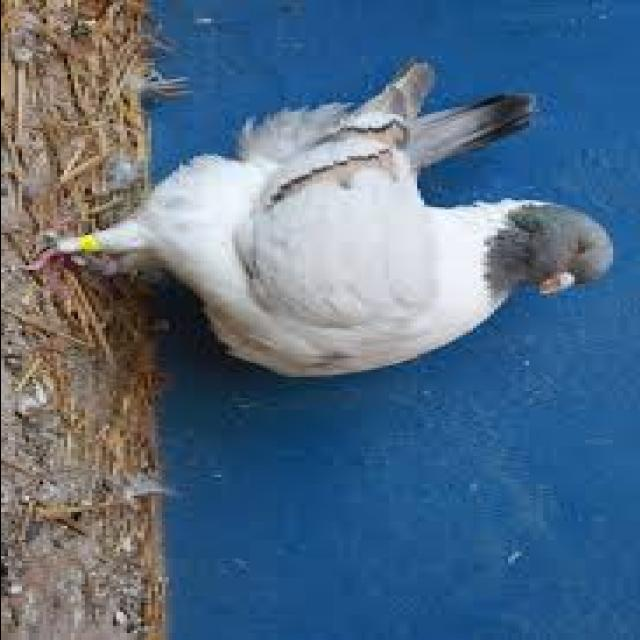pigeon: (45, 56, 622, 406)
